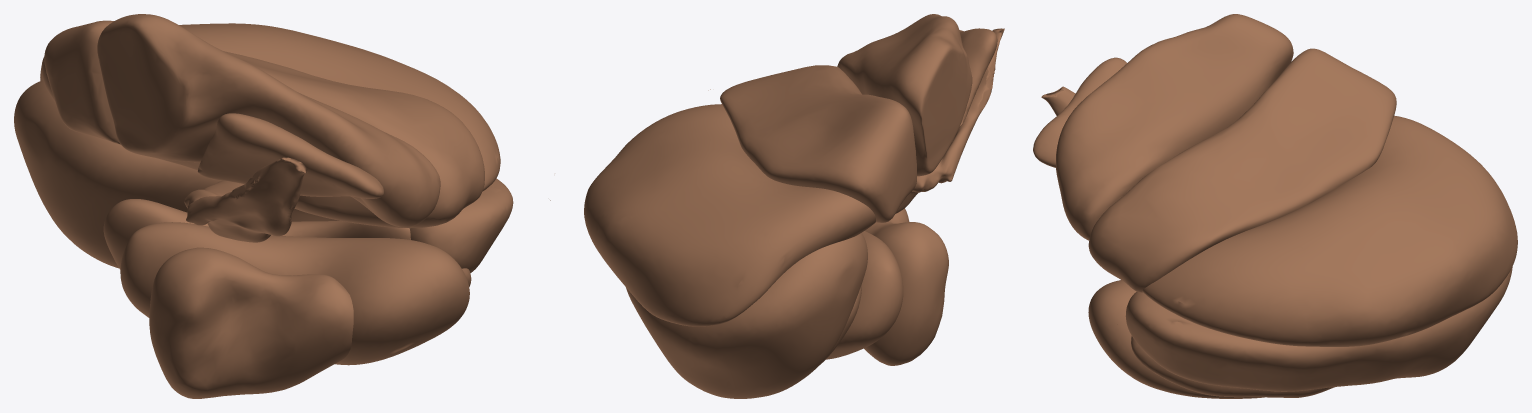
Rendered from Reptillian.L.001.fbx.
3 renders of one model, left to right at view 1: azimuth 30°, elevation 25°; view 2: azimuth 150°, elevation 25°; view 3: azimuth 270°, elevation 25°, orthographic. The views are drawn at different scales.
Visible parts, largest first — view 1: Rep.L; view 2: Rep.L; view 3: Rep.L.
Boxes of the visible parts, <box> form: Rep.L: <box>14,14,550,398</box>; Rep.L: <box>584,14,1004,398</box>; Rep.L: <box>1033,14,1517,398</box>.
Bounding box in the file's own units: 5.08 × 7.1 × 5.19.
